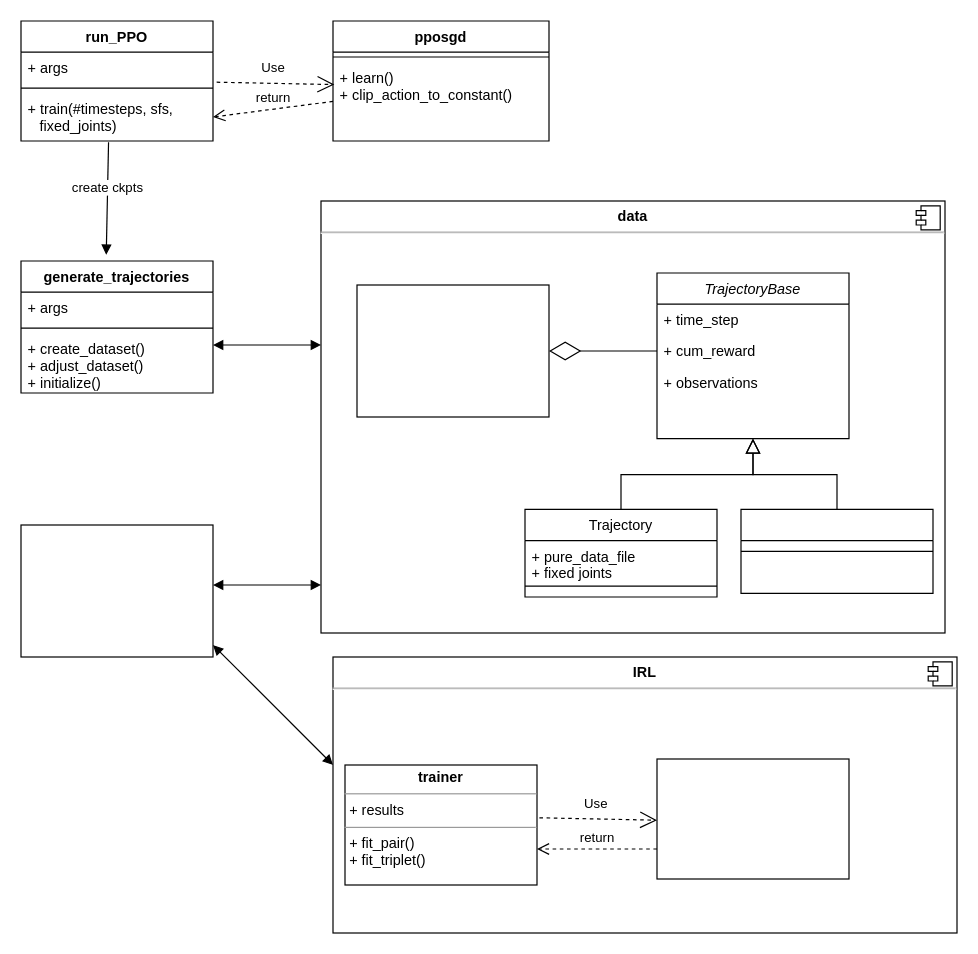
Some shapes in this 978 by 954 pixel diagram are drawn without their labels. The centre of each missing label's shape, as x and y in pixels:
"dataset + field: Type + data_to_pairs()" goes at point 452,350.
"reward_net + model + reward() + call()" goes at point 752,818.
"run_reward_learning + hparams + document()" goes at point 116,590.
"SubTrajectory" goes at point 836,550.
